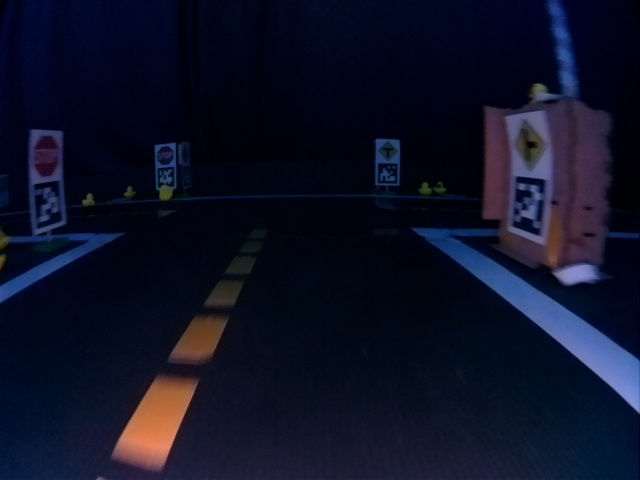Duckie: (158, 186, 173, 201), (419, 182, 432, 195), (124, 186, 135, 198), (83, 194, 95, 205), (434, 182, 444, 193)
Intersection sign: (510, 117, 551, 174), (378, 140, 397, 162)
QR code: (509, 179, 547, 238), (31, 184, 64, 231), (375, 163, 399, 185), (157, 166, 176, 188)
Stop sign: (32, 135, 61, 178), (155, 146, 174, 166)
